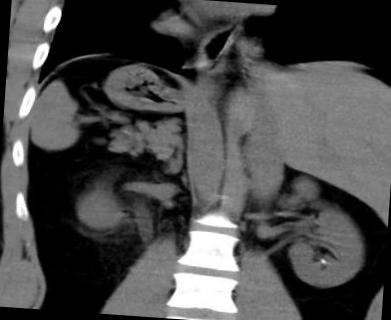Tas_Var: (317, 258, 327, 266)
